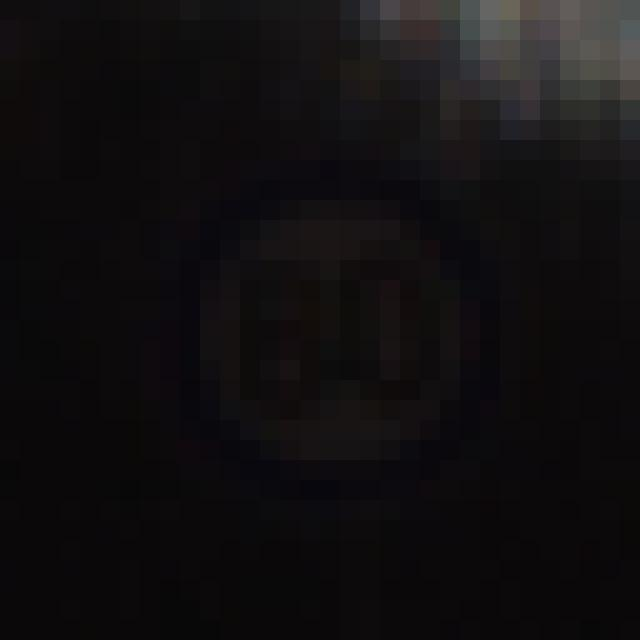SPEED-LIMIT-80: (194, 189, 503, 488)
